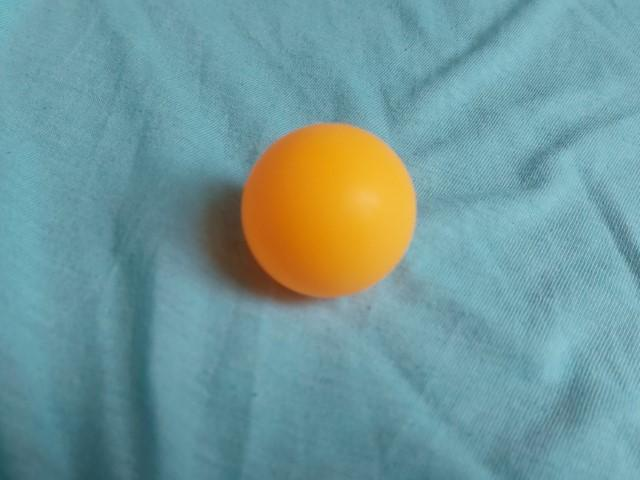oball: (232, 117, 422, 303)
